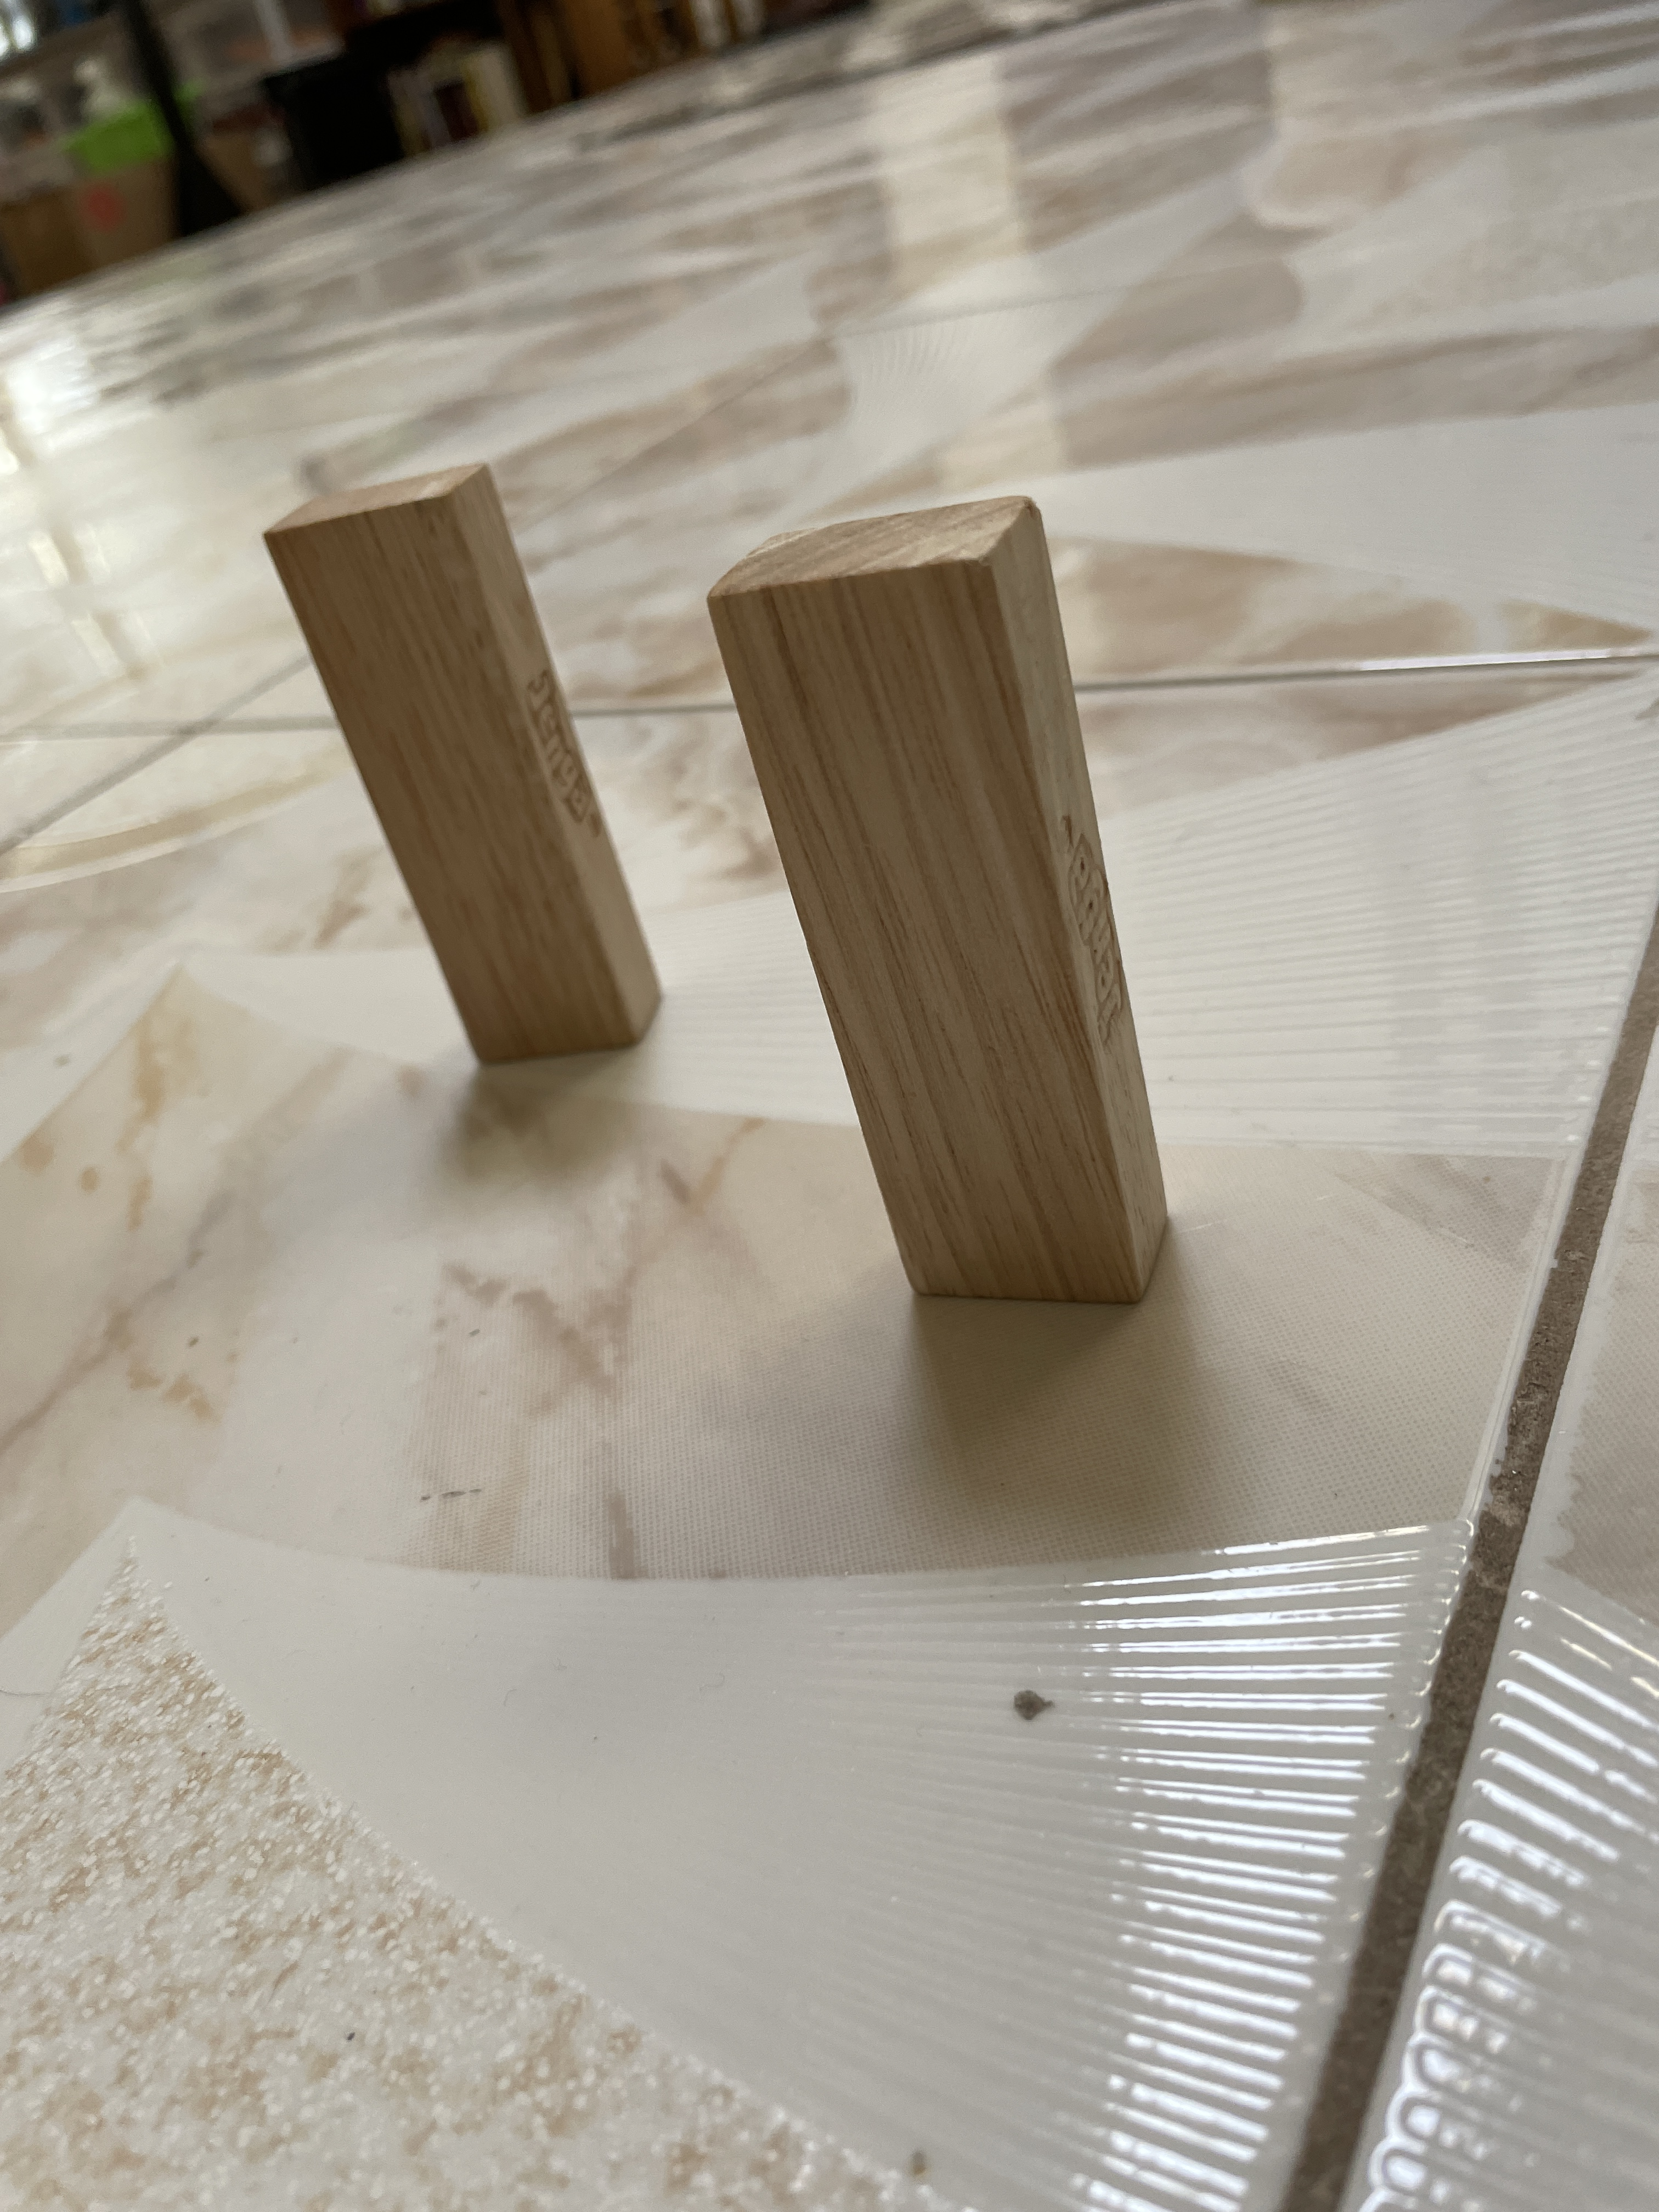jenga: (718, 514, 1208, 1306), (265, 481, 683, 1050)
